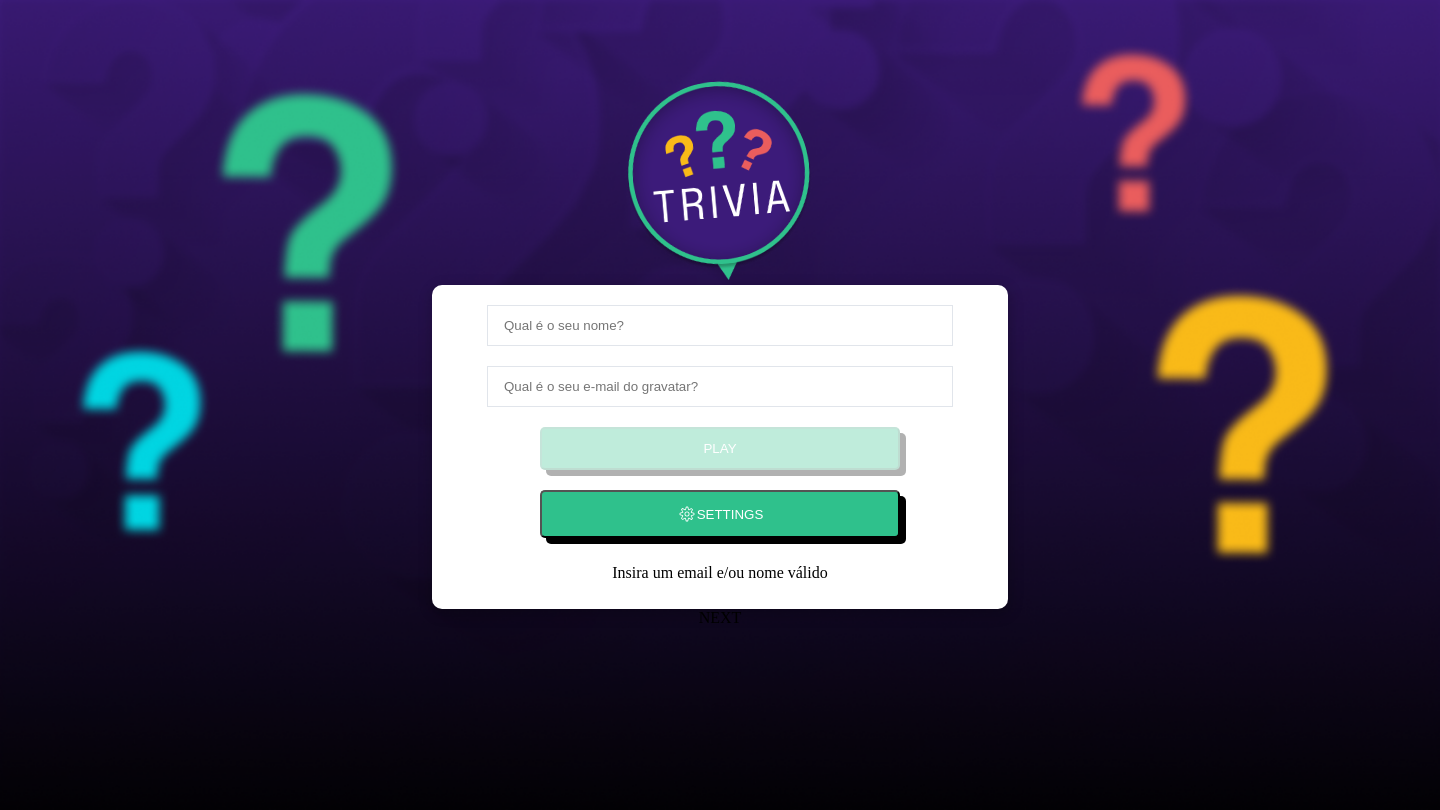
Test case: Testa componente Login › Verifica se o botão é habilitado quando preenchido nome e email
In the field with test id "input-player-name": (720, 326) [487,305,953,346], type "Bode do Milhão"
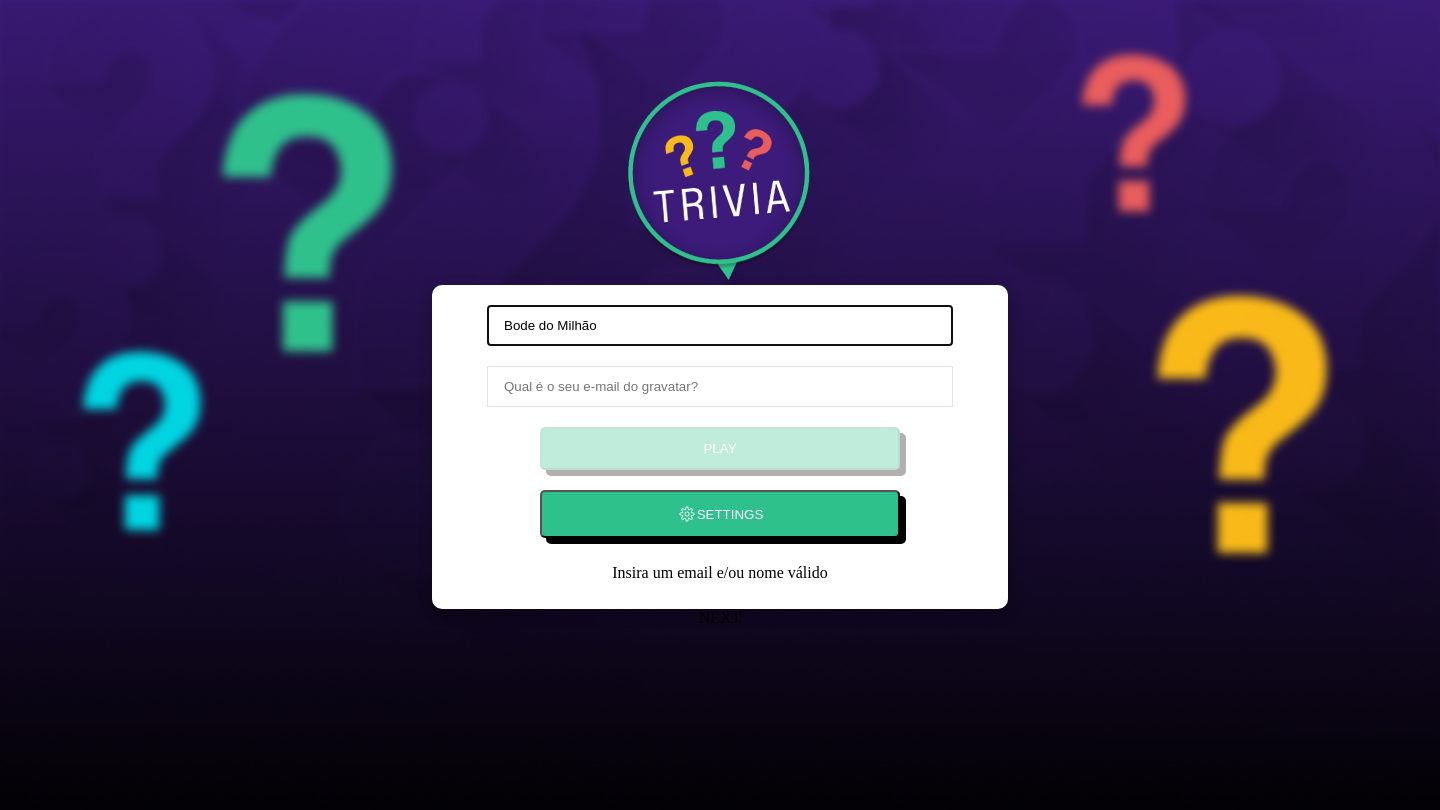
In the field with test id "input-gravatar-email": (720, 387) [487,366,953,407], type "bode@gmail.com"
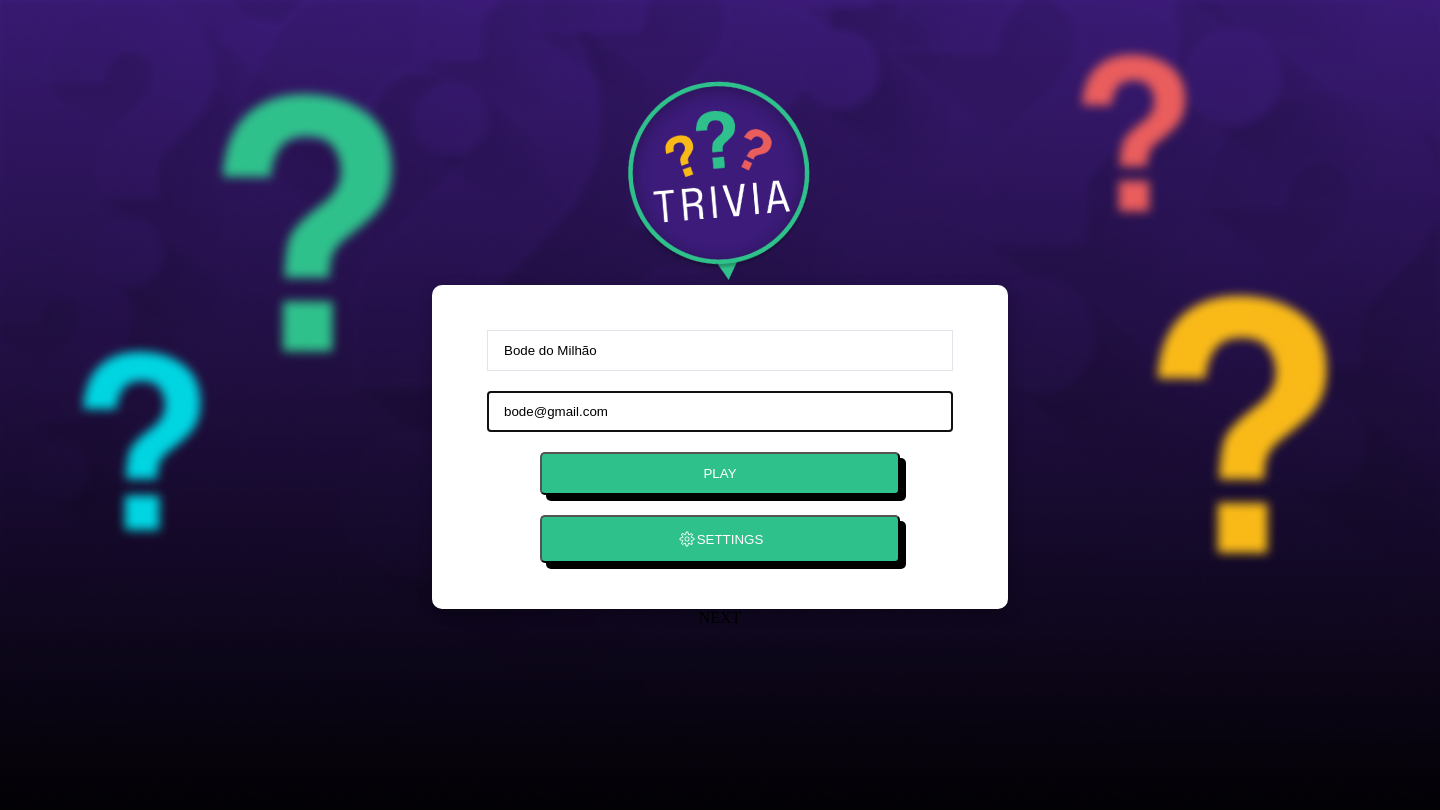
expect the button with test id "btn-play" is enabled: met, box [540,452,900,495]
